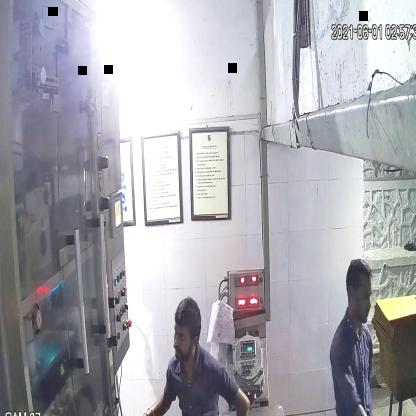no_goggles: (168, 322, 202, 344)
